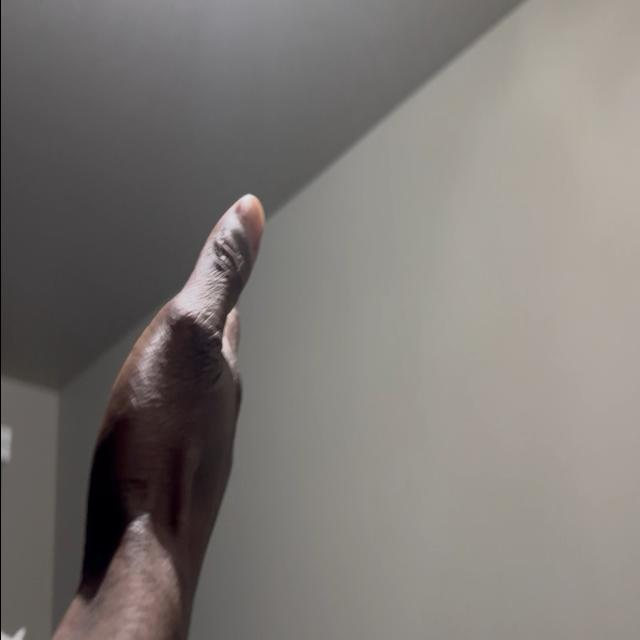Paper: (80, 192, 264, 598)
